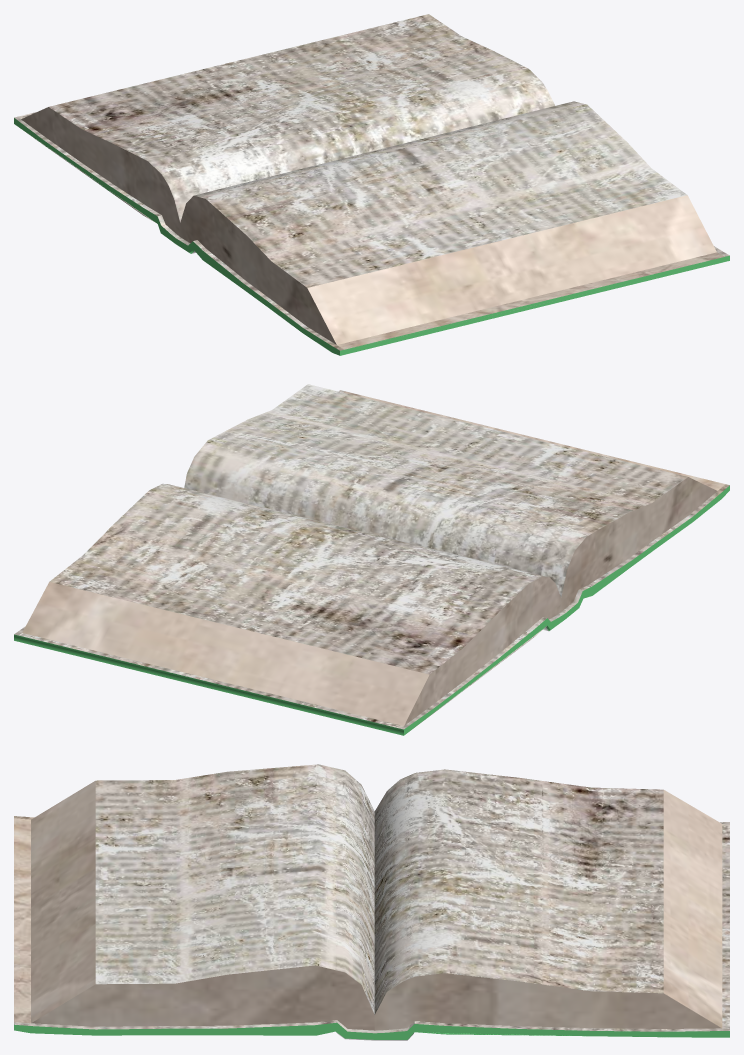
File: book open.fbx
3 renders of one model, top to bottom at view 1: azimuth 30°, elevation 25°; view 2: azimuth 150°, elevation 25°; view 3: azimuth 270°, elevation 25°, orthographic. The views are drawn at different scales.
Visible parts, largest first — view 1: BookOpen_LP; view 2: BookOpen_LP; view 3: BookOpen_LP.
Part boxes in pixels (x1,y1,x2,y2): BookOpen_LP: (14,14,729,355); BookOpen_LP: (14,384,729,735); BookOpen_LP: (14,764,729,1040).
Size of the model in its own units: 1151 by 189 by 1668.
Materials: 4 (2 with a texture image).
